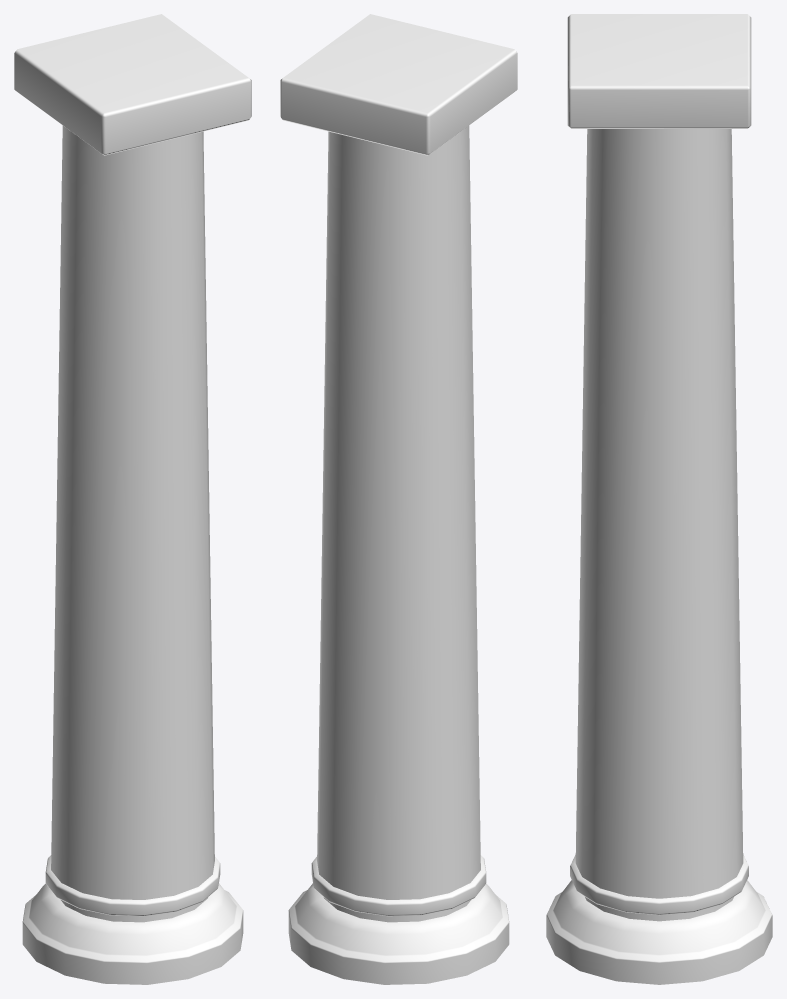
File: mod_sc_roma_001_ar04_pillar_002.fbx
The picture shows the model from 3 angles, left to right: view 1: azimuth 30°, elevation 25°; view 2: azimuth 150°, elevation 25°; view 3: azimuth 270°, elevation 25°; orthographic projection.
Parts seen in each view (by area): view 1: mod_sc_roma_001_ar04_pillar_002; view 2: mod_sc_roma_001_ar04_pillar_002; view 3: mod_sc_roma_001_ar04_pillar_002.
Boxes of the visible parts, x1,y1,x2,y2 form: mod_sc_roma_001_ar04_pillar_002: [14, 14, 251, 984]; mod_sc_roma_001_ar04_pillar_002: [280, 14, 517, 984]; mod_sc_roma_001_ar04_pillar_002: [546, 14, 772, 984].
Size of what is drawn, in the model's own units: 220 by 953 by 220.
Materials: 1 (1 with a texture image).
